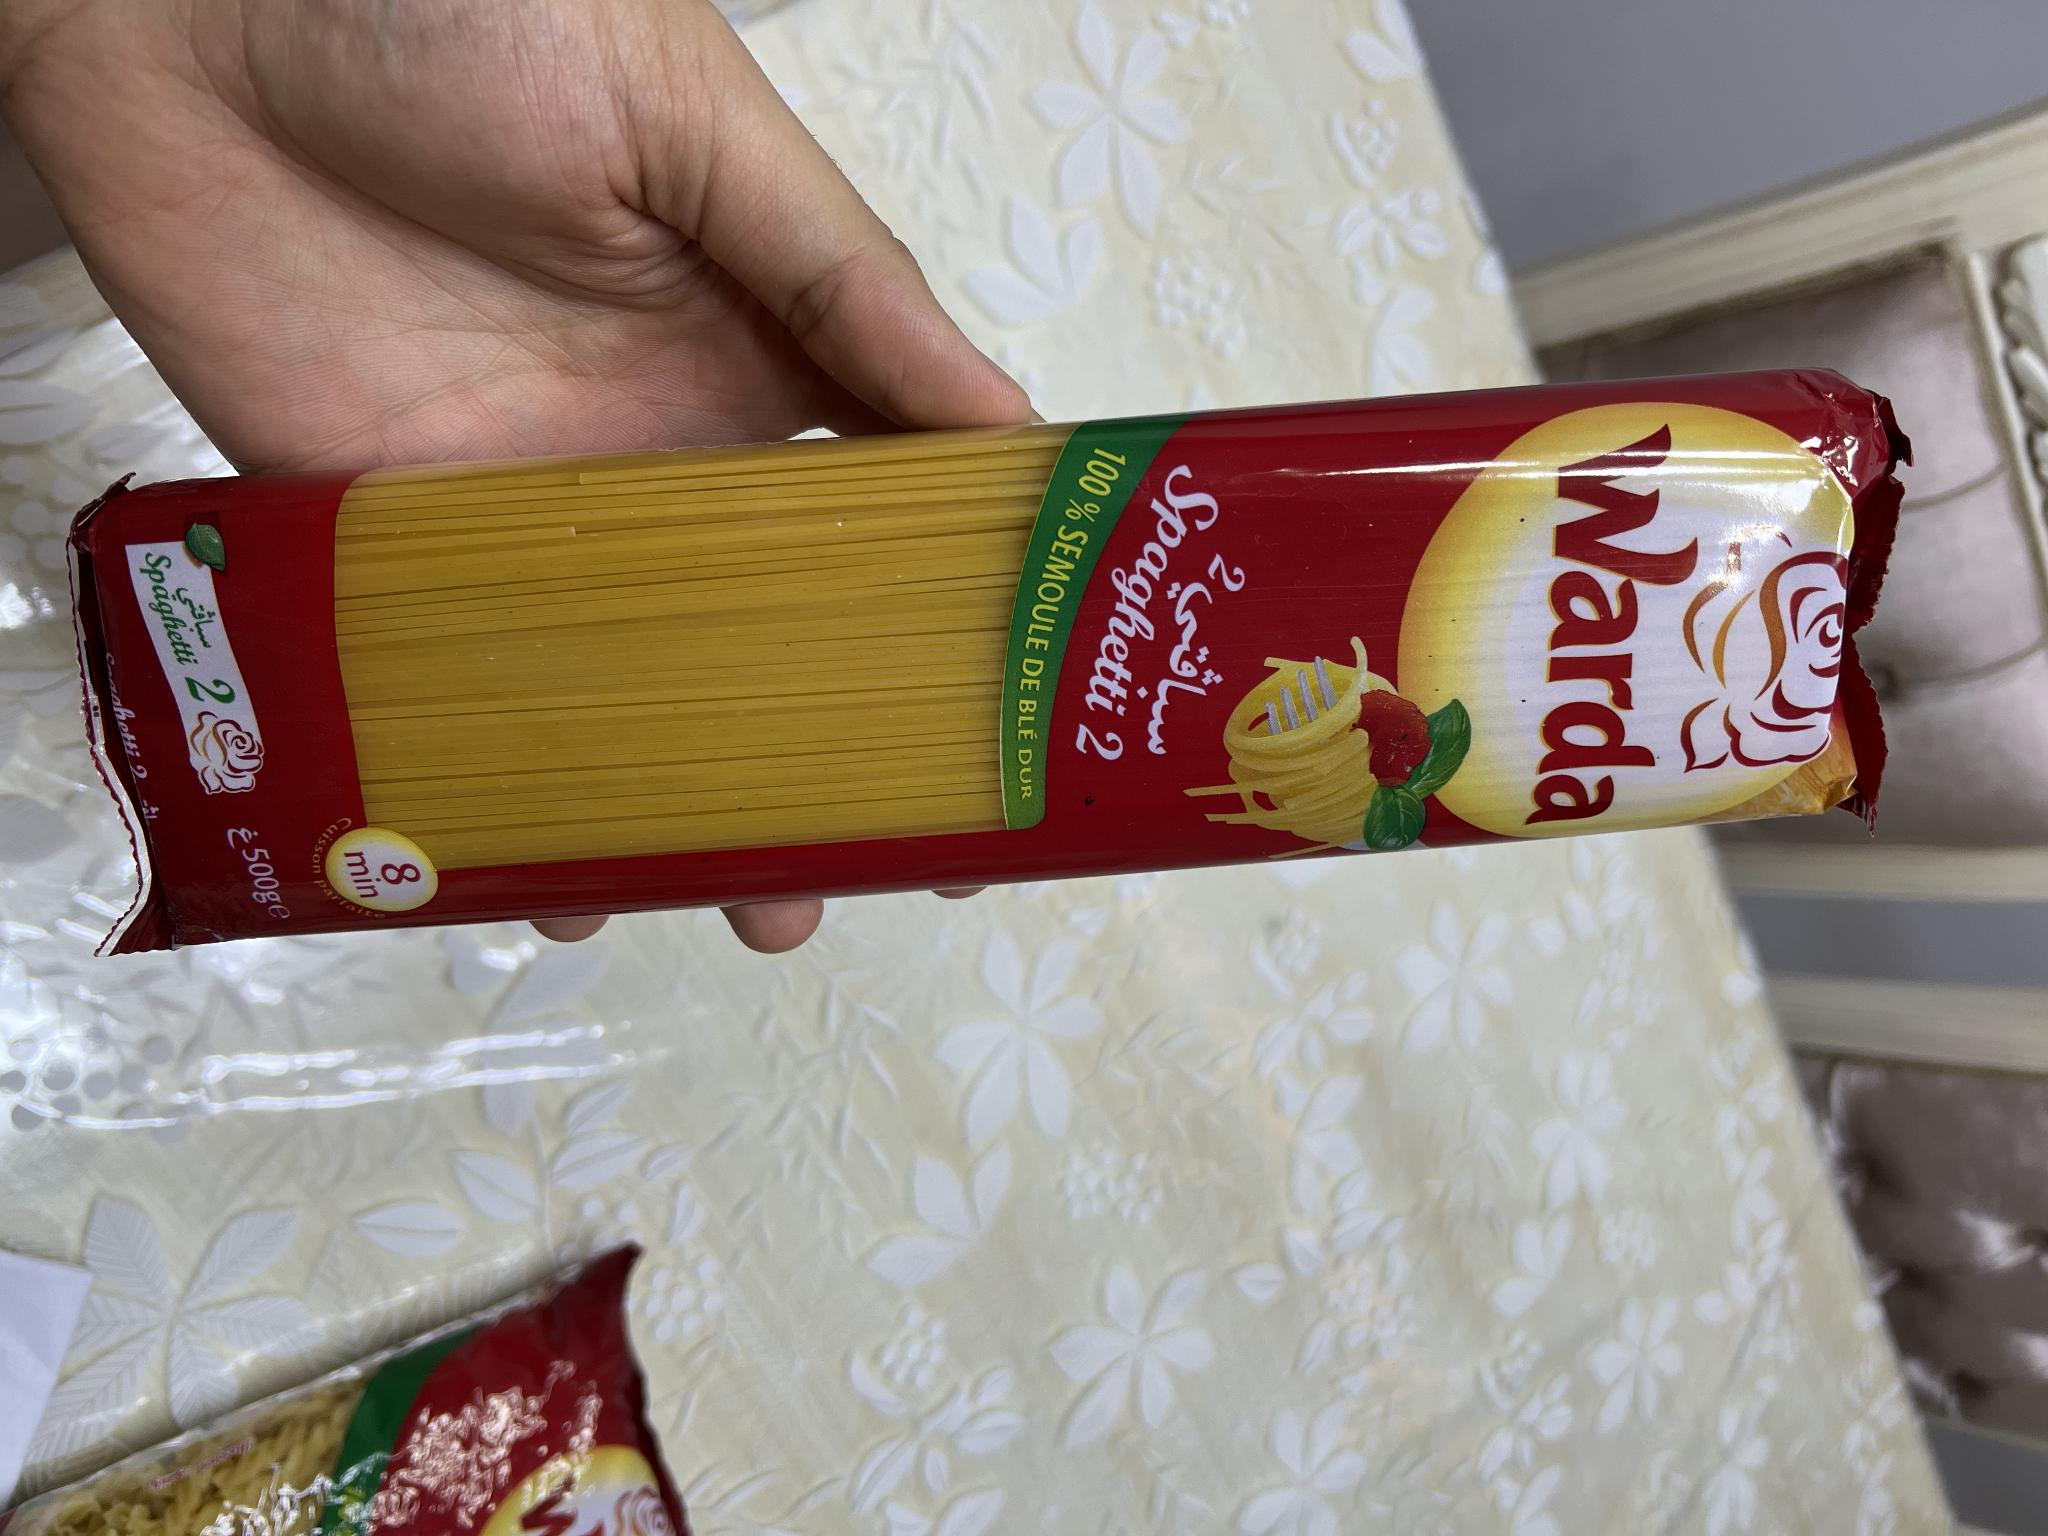Spaghetti: (76, 353, 1895, 955)
